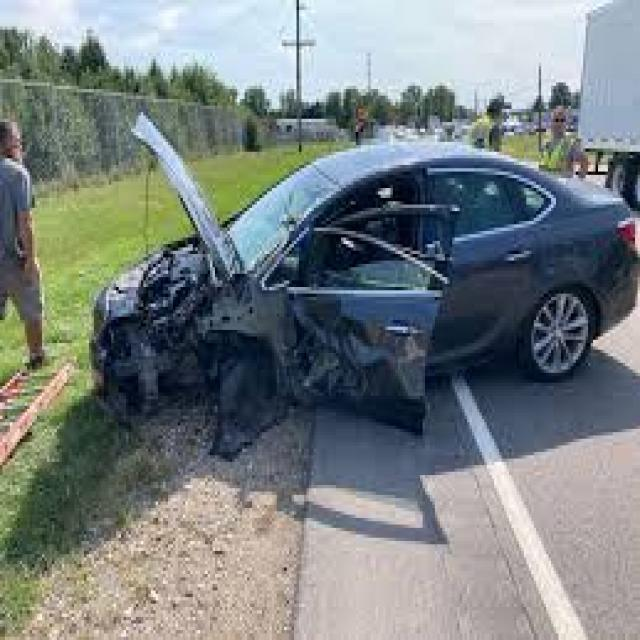accident: (71, 121, 613, 401)
